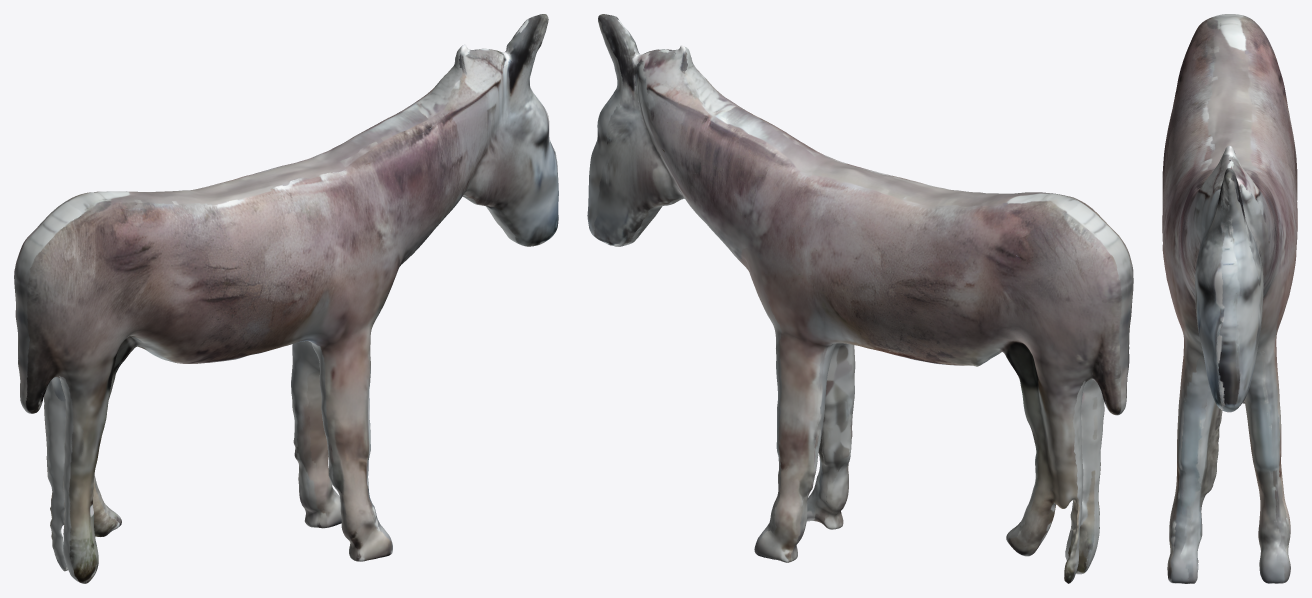
File: joven.glb
3 views of the same model, side by side, from view 1: azimuth 30°, elevation 25°; view 2: azimuth 150°, elevation 25°; view 3: azimuth 270°, elevation 25° (orthographic). The views are drawn at different scales.
Visible parts, largest first — view 1: mesh; view 2: mesh; view 3: mesh.
Boxes of the visible parts, box(x1,y1,x2,y2) form: mesh: box(14, 14, 558, 583); mesh: box(587, 14, 1133, 583); mesh: box(1162, 14, 1297, 583).
Bounding box in the file's own units: 1.56 × 1.33 × 0.3239.
1 material, 1 textured.
